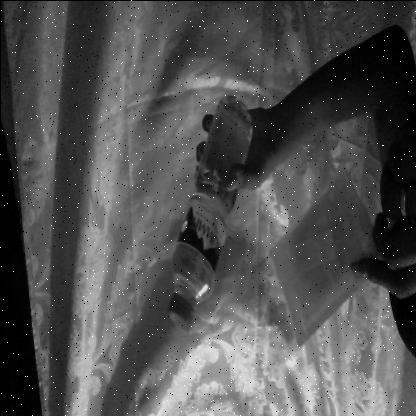Plastic Bottle: (140, 53, 262, 351)
